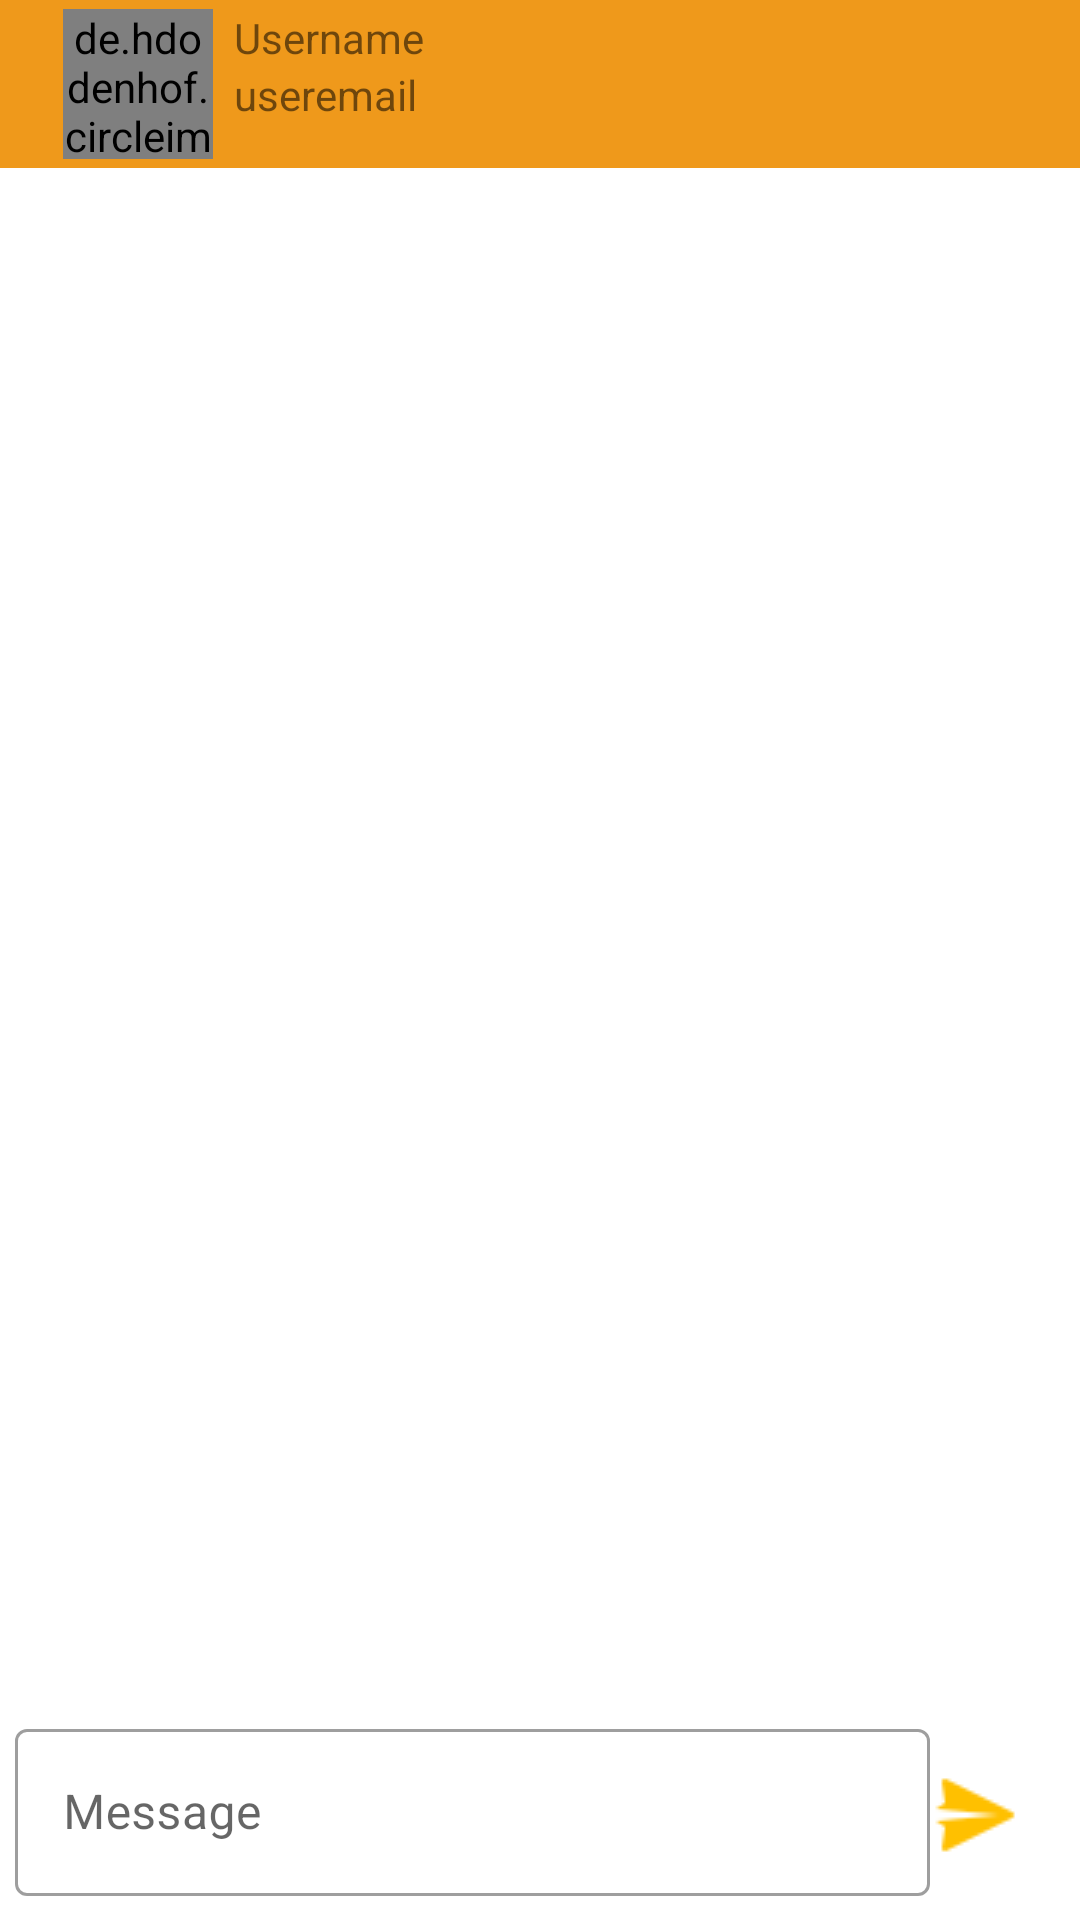

Icon click points for this 1080px x 1920px phone screenshot, format (x=x, y=y):
sent: (x=975, y=1815)
